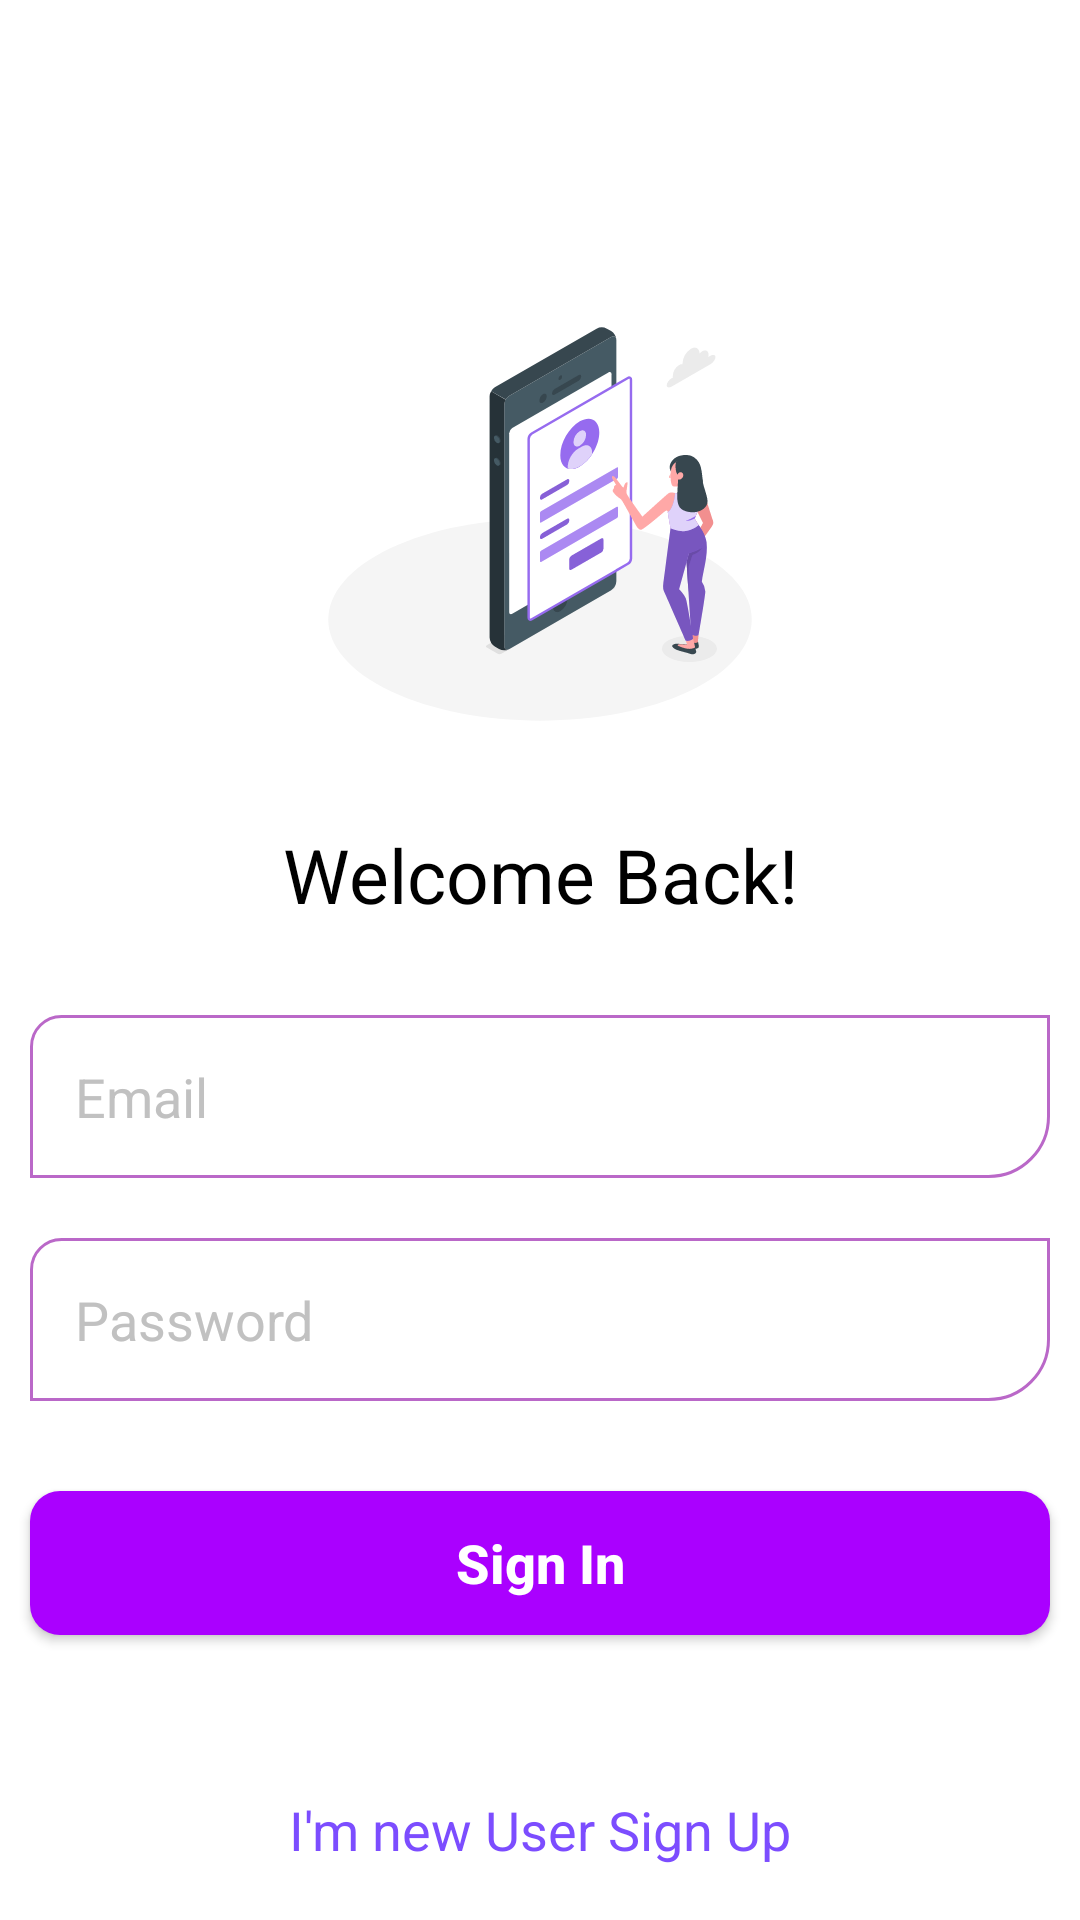

Screen size 1080px×1920px. Icon name, then its box in pixels as [left=x1, top=y1, right=x2, bottom=y2]:
mobile login: [left=486, top=327, right=714, bottom=655]
